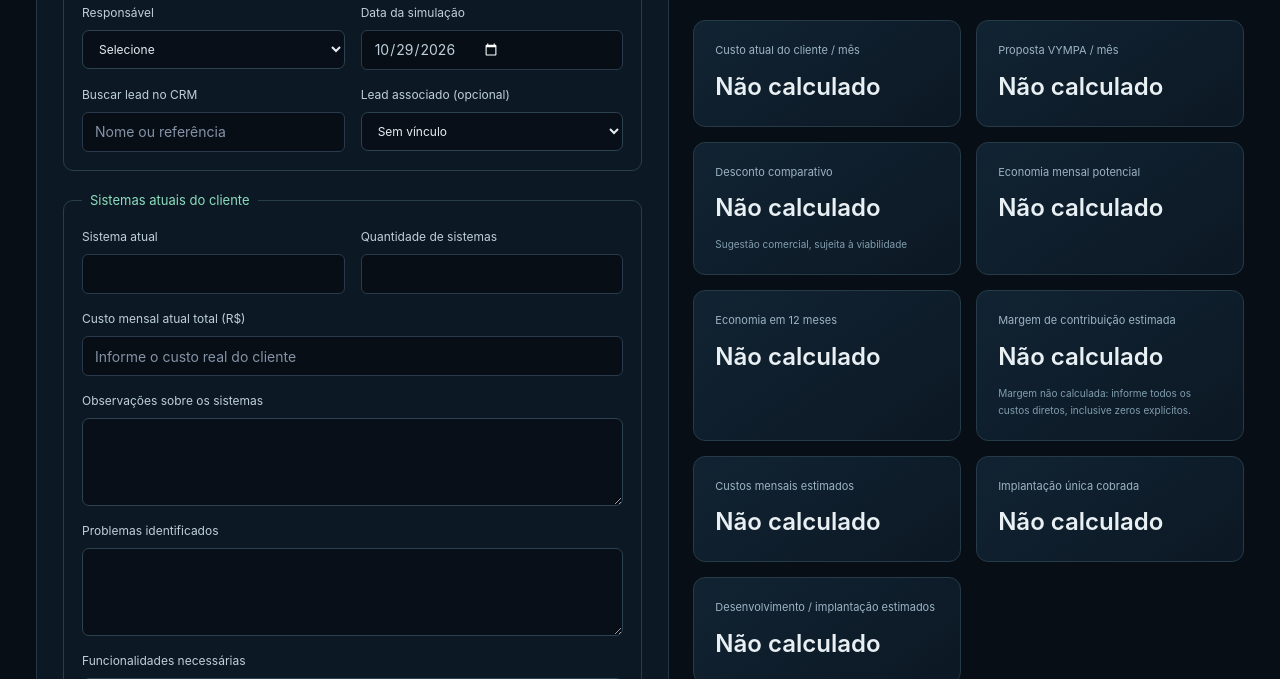
Test: Separação das áreas financeiras › recalcula o exemplo de dez mil instantaneamente sem persistir
The width and height of the screenshot is (1280, 679).
(page scrolled)
Type "10000,00" into the field labelled "Custo mensal atual total (R$)".
click(353, 356); type("10000,00")  # box [82,336,623,376]
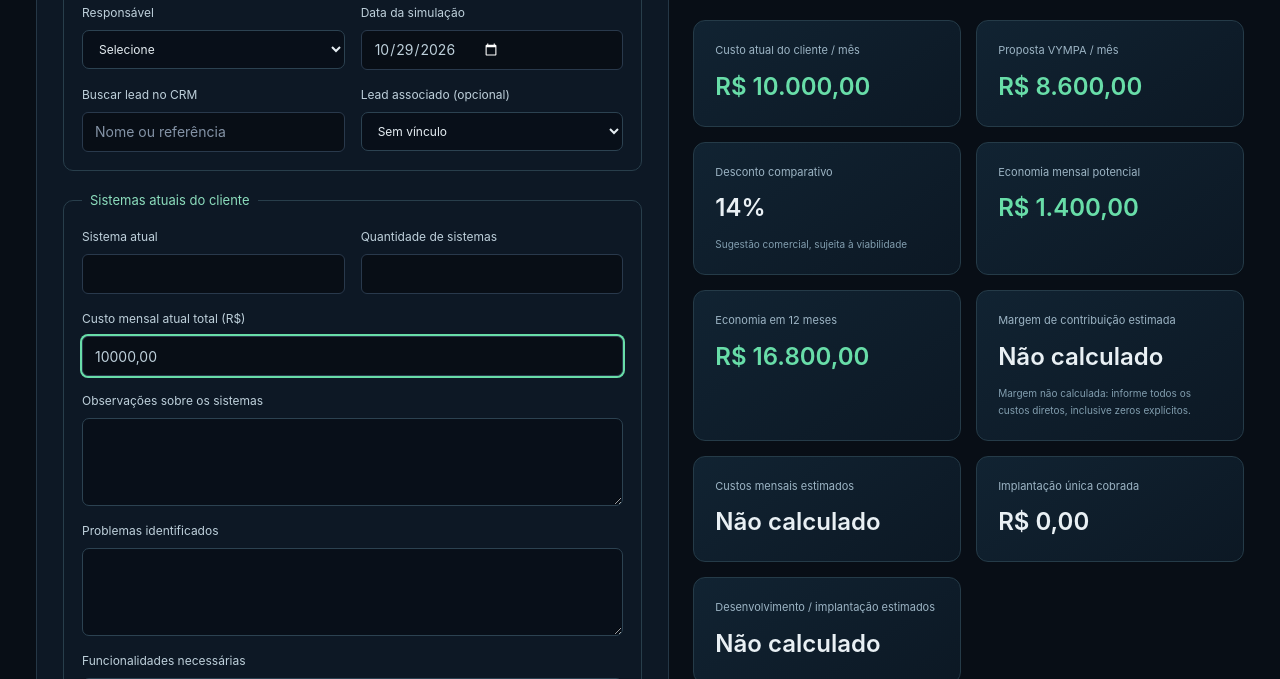
Expected: the text "14%" is shown, [715,194,766,222]
Expected: the text "R$ 8.600,00" is shown, [998,72,1142,101]
Expected: the text "R$ 16.800,00" is shown, [715,342,869,371]
